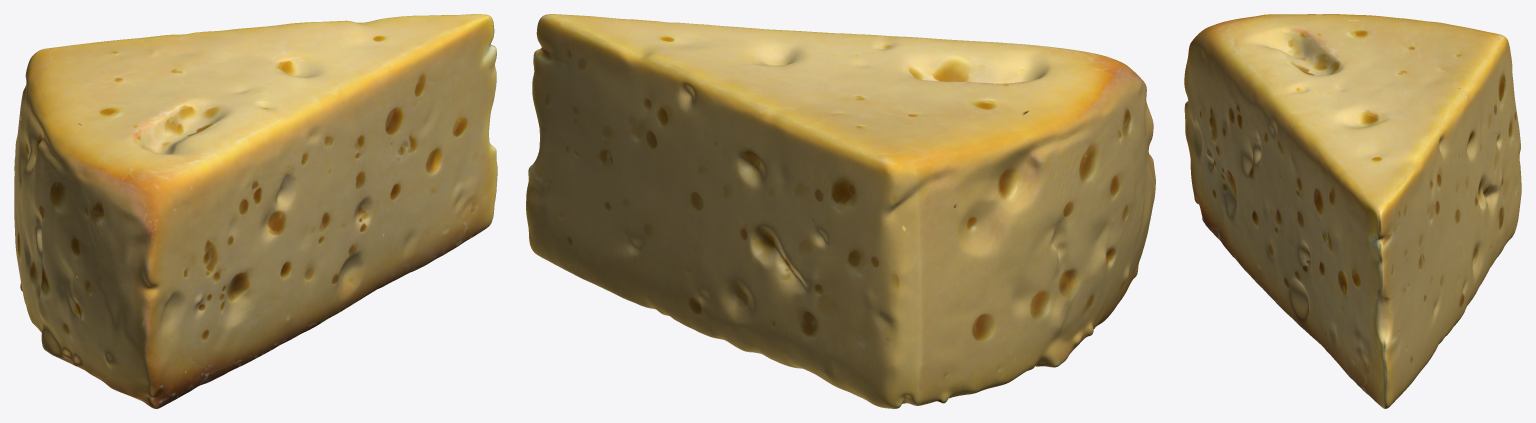
File: gruyere.glb
3 views of the same model, side by side, from view 1: azimuth 30°, elevation 25°; view 2: azimuth 150°, elevation 25°; view 3: azimuth 270°, elevation 25° (orthographic). The views are drawn at different scales.
Size of the model in its own units: 2 by 0.9342 by 1.34.
1 material, 1 textured.
